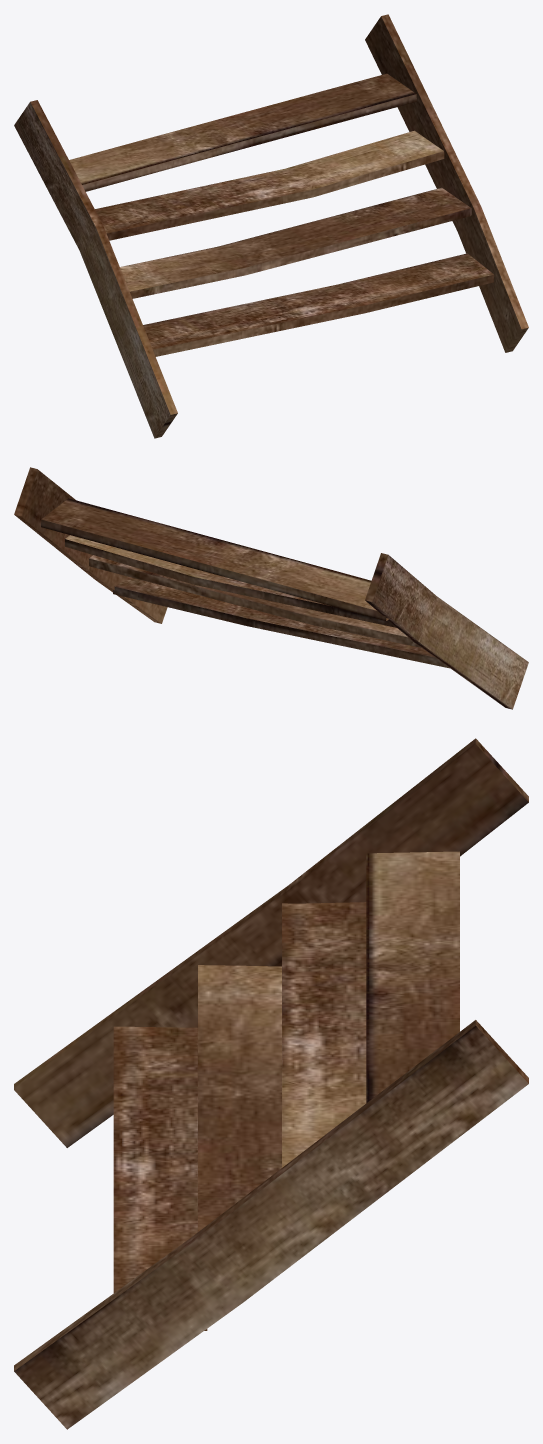
The model's file is stairs_wood.fbx.
The picture shows the model from 3 angles, top to bottom: view 1: azimuth 30°, elevation 25°; view 2: azimuth 150°, elevation 25°; view 3: azimuth 270°, elevation 25°; orthographic projection. The views are drawn at different scales.
Visible parts, largest first — view 1: polySurface116; view 2: polySurface116; view 3: polySurface116.
Part boxes in pixels (bbox=[...]): polySurface116: bbox=[14, 14, 528, 438]; polySurface116: bbox=[14, 467, 528, 709]; polySurface116: bbox=[14, 738, 528, 1429].
Bounding box in the file's own units: 199 × 129 × 149.
